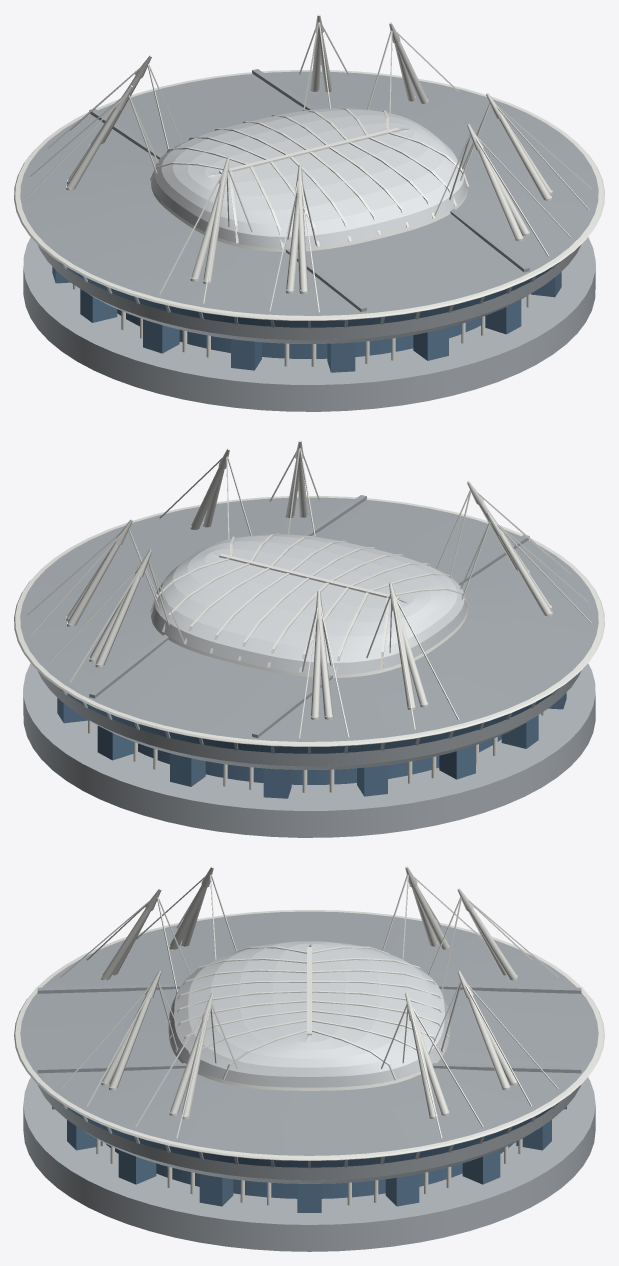
The model's file is saint-petersburg-krestovsky.glb.
3 renders of one model, top to bottom at view 1: azimuth 30°, elevation 25°; view 2: azimuth 150°, elevation 25°; view 3: azimuth 270°, elevation 25°, orthographic.
Visible parts, largest first — view 1: Krestovsky Stadium (Gazprom Arena); view 2: Krestovsky Stadium (Gazprom Arena); view 3: Krestovsky Stadium (Gazprom Arena).
Boxes of the visible parts, <box> form: Krestovsky Stadium (Gazprom Arena): <box>14,14,604,411</box>; Krestovsky Stadium (Gazprom Arena): <box>14,440,604,837</box>; Krestovsky Stadium (Gazprom Arena): <box>14,866,604,1251</box>.
Bounding box in the file's own units: 289 × 109 × 289.
